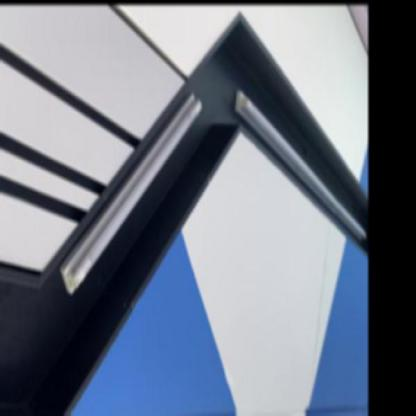light_off: (54, 74, 209, 298), (229, 71, 366, 272)
